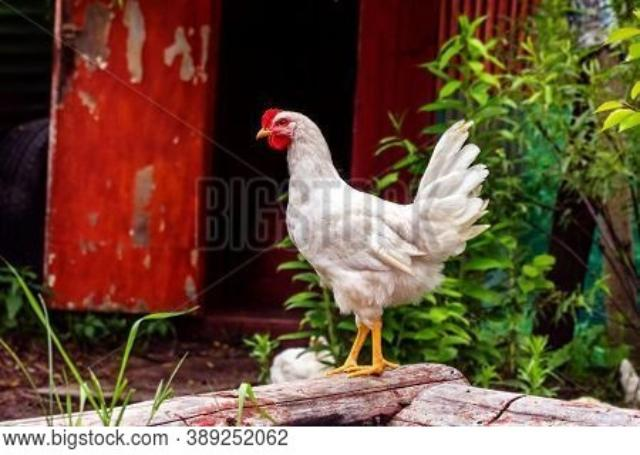Chicken: (255, 107, 490, 374)
